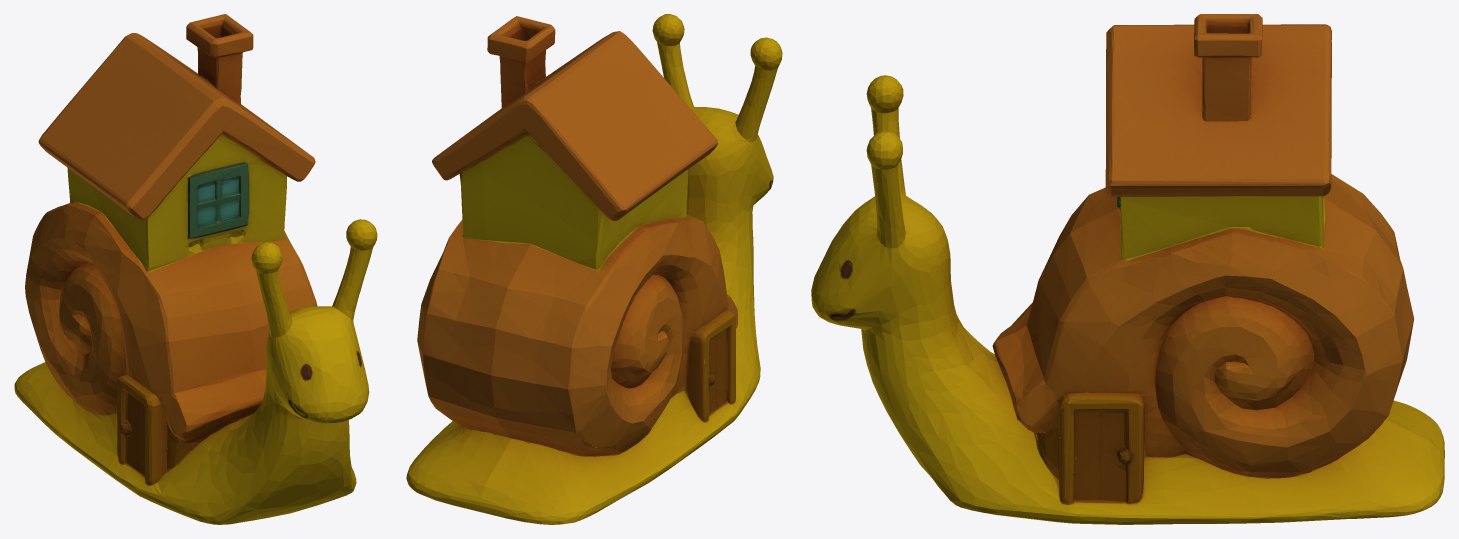
The model's file is Untitle.fbx.
The picture shows the model from 3 angles, left to right: view 1: azimuth 30°, elevation 25°; view 2: azimuth 150°, elevation 25°; view 3: azimuth 270°, elevation 25°; orthographic projection. The views are drawn at different scales.
Visible parts, largest first — view 1: world; view 2: world; view 3: world.
Boxes of the visible parts, box(x1,y1,x2,y2) form: world: box(14, 14, 377, 524); world: box(406, 14, 782, 524); world: box(811, 14, 1444, 524).
Size of the model in its own units: 44.46 by 82.39 by 100.
Materials: 1 (1 with a texture image).
